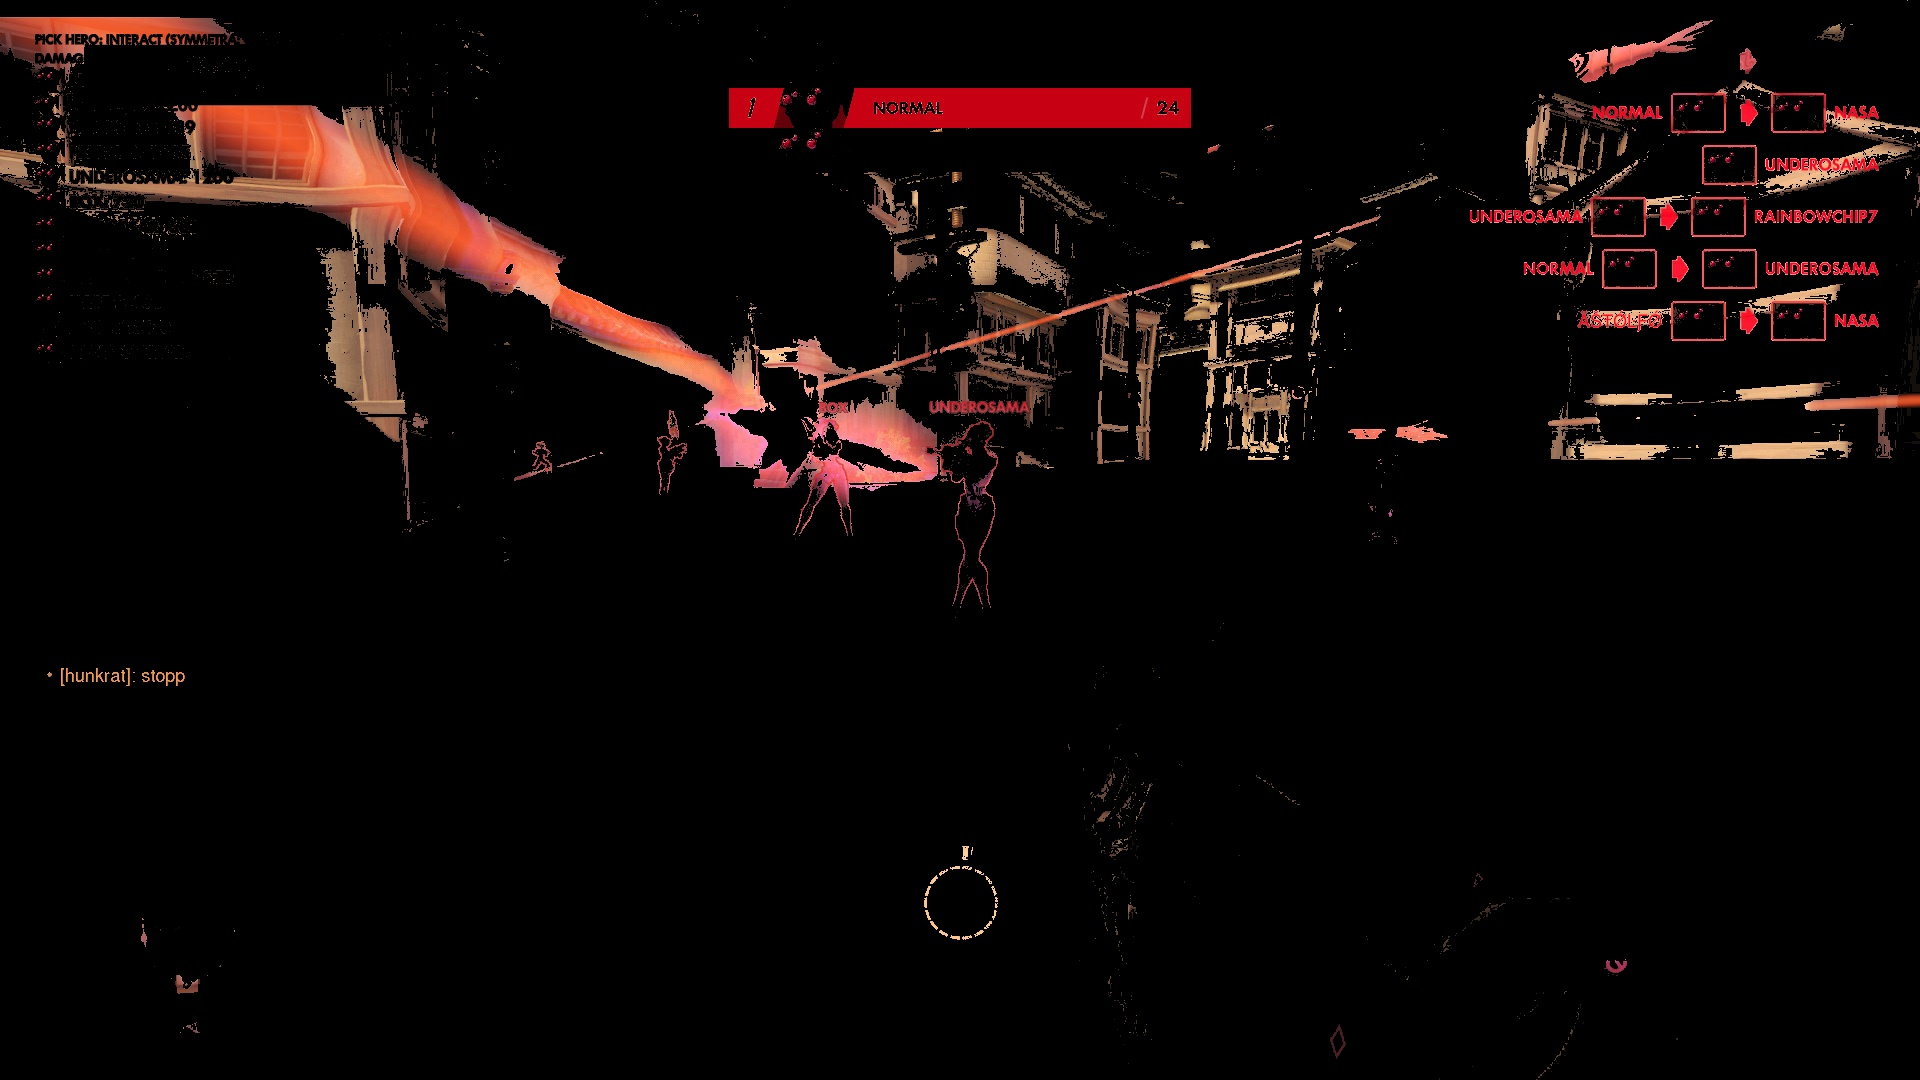widowmaker: (916, 418, 1029, 638), (791, 410, 869, 560), (651, 436, 688, 502), (524, 434, 556, 479), (663, 407, 684, 444)
